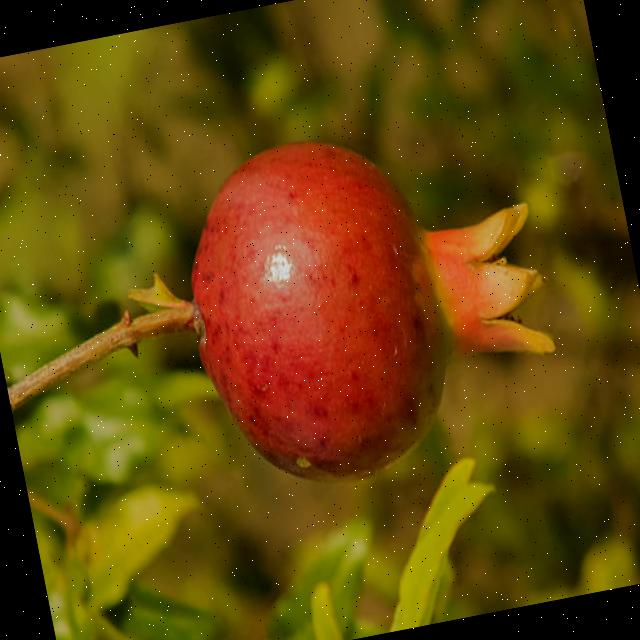Ripe: (158, 94, 580, 512)
